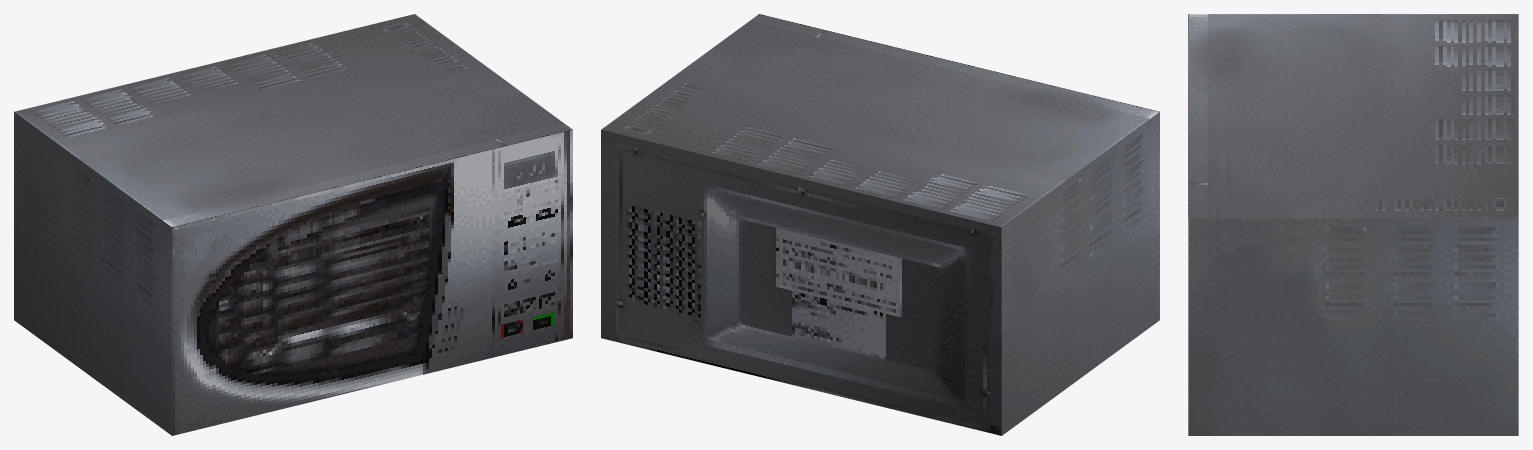
Rendered from PSX_Microwave.glb.
3 views of the same model, side by side, from view 1: azimuth 30°, elevation 25°; view 2: azimuth 150°, elevation 25°; view 3: azimuth 270°, elevation 25° (orthographic). The views are drawn at different scales.
Visible parts, largest first — view 1: SM_PSX_Microwave; view 2: SM_PSX_Microwave; view 3: SM_PSX_Microwave.
Boxes of the visible parts, left/top/right/bottom form: SM_PSX_Microwave: left=14, top=14, right=572, bottom=435; SM_PSX_Microwave: left=601, top=14, right=1159, bottom=435; SM_PSX_Microwave: left=1188, top=14, right=1518, bottom=435.
Size of the model in its own units: 0.897 by 0.4459 by 0.613.
Materials: 1 (1 with a texture image).
